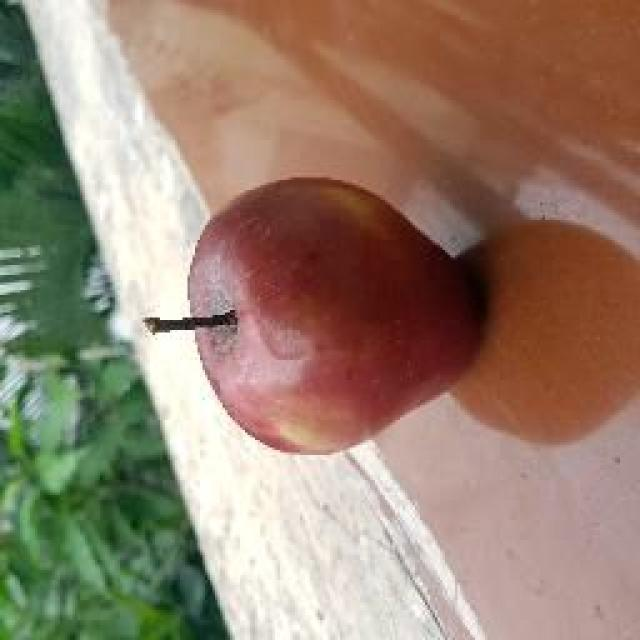Good_Apple: (189, 179, 482, 453)
